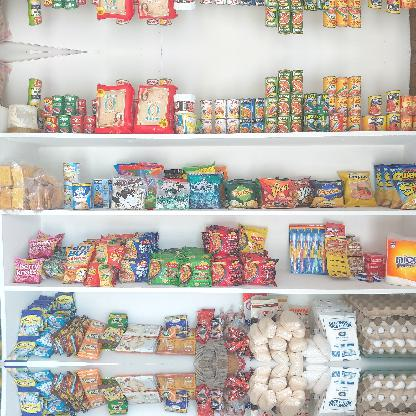Lady-s-Choice: (6, 104, 40, 132)
